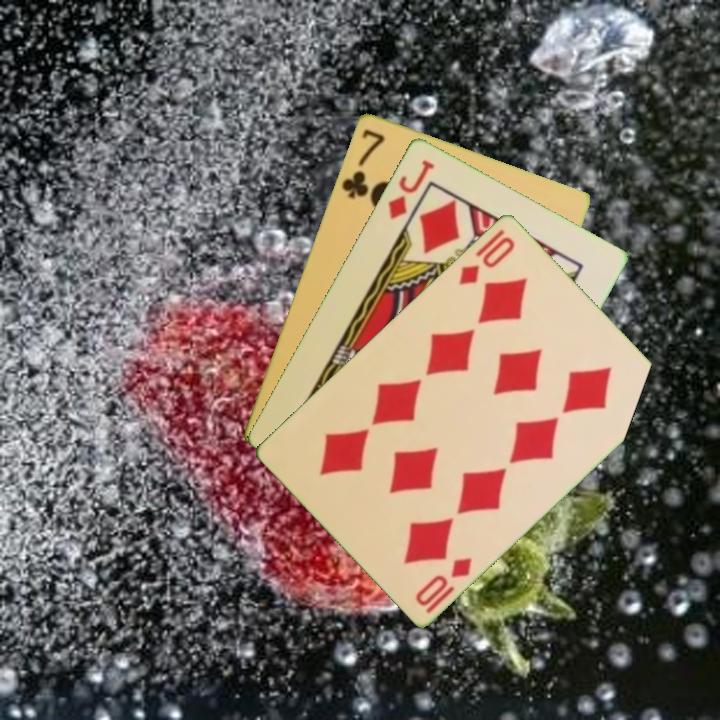10d: (412, 553, 475, 616), (455, 232, 518, 288)
7c: (337, 125, 388, 201)
Jd: (384, 155, 437, 223)
